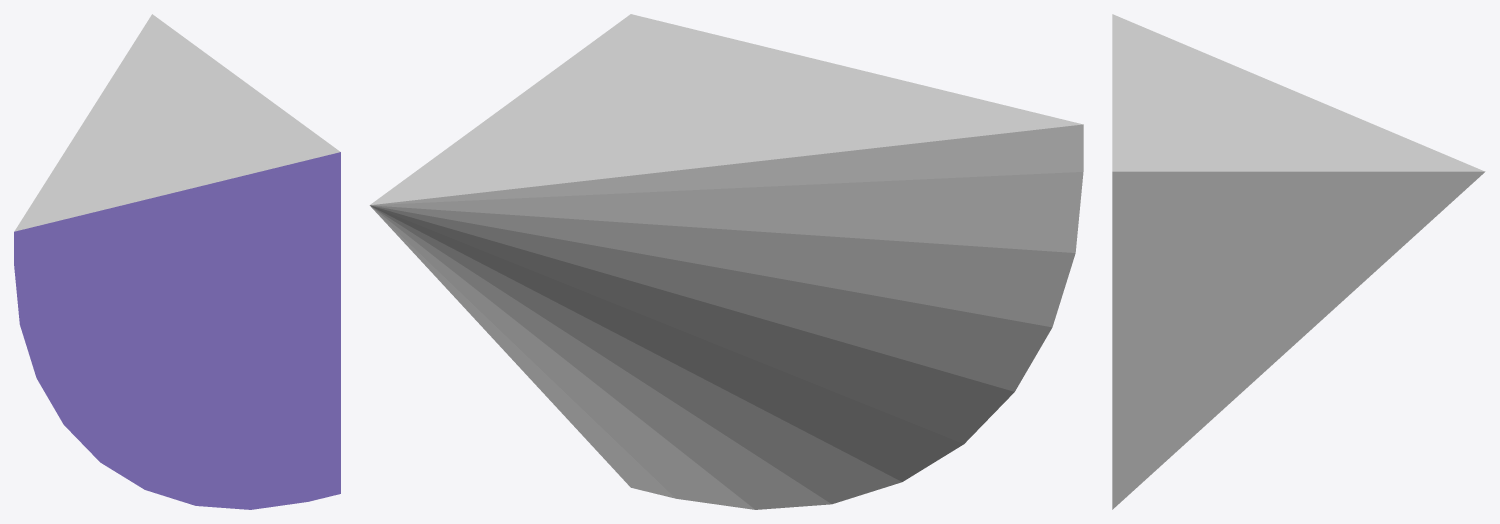
File: Roof_Quagrant.fbx
3 renders of one model, left to right at view 1: azimuth 30°, elevation 25°; view 2: azimuth 150°, elevation 25°; view 3: azimuth 270°, elevation 25°, orthographic. The views are drawn at different scales.
Visible parts, largest first — view 1: Roof_Quagrant; view 2: Roof_Quagrant; view 3: Roof_Quagrant.
Boxes of the visible parts, x1=… form: Roof_Quagrant: x1=14, y1=14, x2=340, y2=509; Roof_Quagrant: x1=369, y1=14, x2=1083, y2=509; Roof_Quagrant: x1=1112, y1=14, x2=1485, y2=509.
Size of the model in its own units: 200 by 200 by 200.
